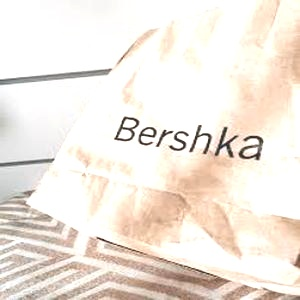bershka: (192, 73, 300, 180)
